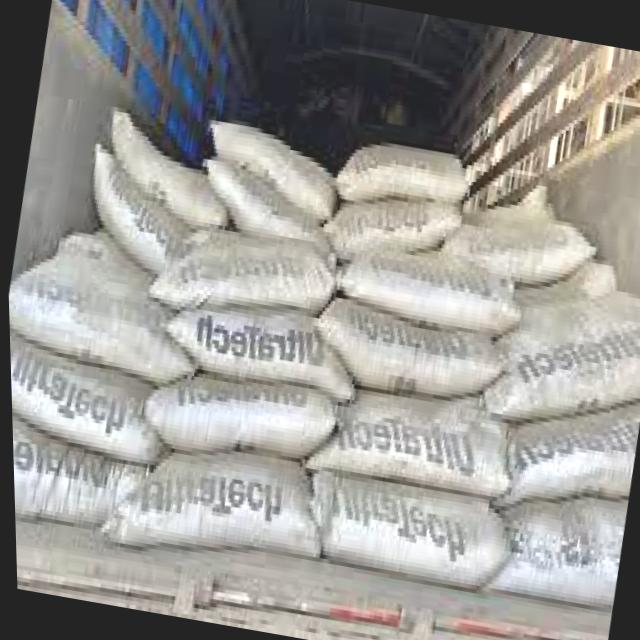cement_bag: (7, 267, 185, 387), (104, 456, 304, 549), (8, 335, 145, 465), (166, 303, 345, 399), (497, 289, 640, 406), (312, 391, 497, 475), (210, 112, 331, 228), (311, 474, 499, 548), (500, 401, 633, 503), (111, 113, 215, 227), (485, 502, 620, 584), (339, 245, 507, 308), (322, 299, 487, 361), (148, 379, 324, 437), (162, 227, 318, 291), (323, 202, 446, 250), (442, 218, 595, 255), (339, 145, 462, 188)
